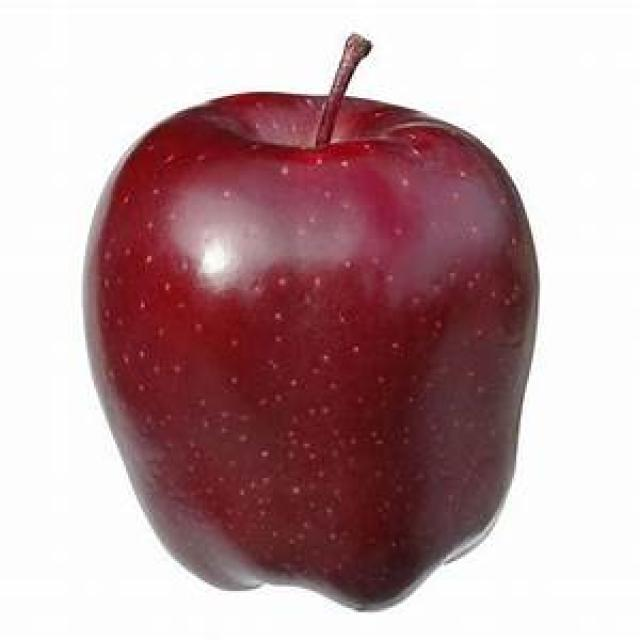apple: (82, 84, 544, 615)
